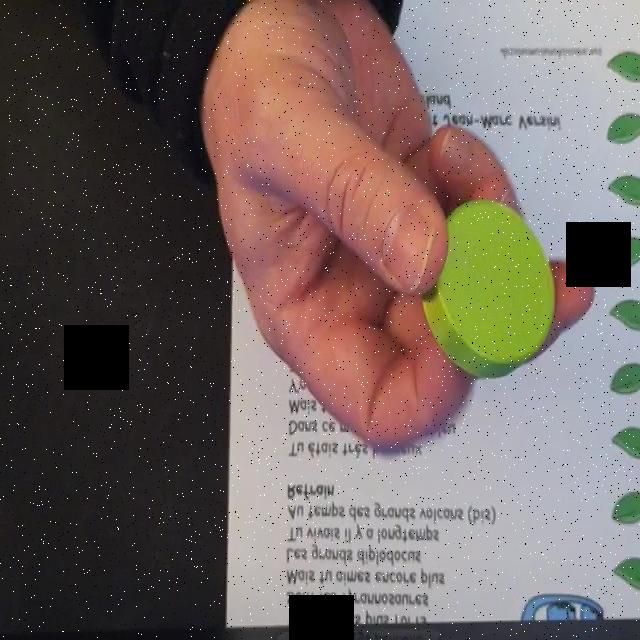round: (421, 198, 556, 378)
